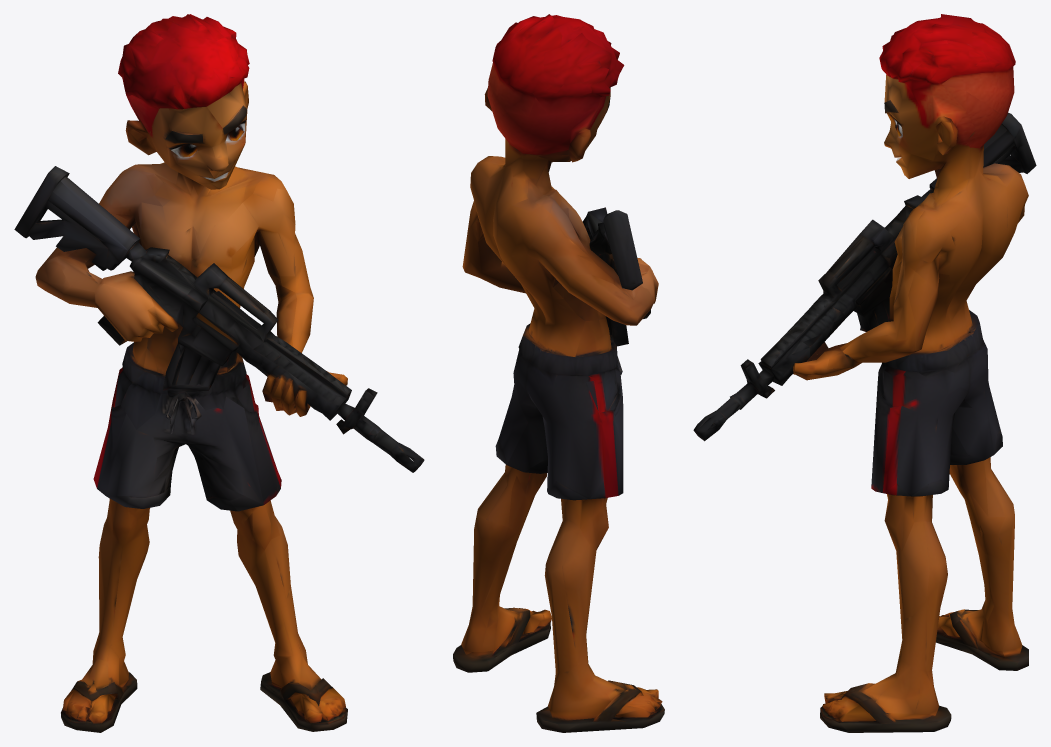
File: demo_gladiator_01.glb
The picture shows the model from 3 angles, left to right: view 1: azimuth 30°, elevation 25°; view 2: azimuth 150°, elevation 25°; view 3: azimuth 270°, elevation 25°; orthographic projection. The views are drawn at different scales.
Visible parts, largest first — view 1: node_0; view 2: node_0; view 3: node_0.
Boxes of the visible parts, x1,y1,x2,y2 form: node_0: (14,14,424,732); node_0: (453,14,664,732); node_0: (693,14,1036,732).
Bounding box in the file's own units: 0.4072 × 1.09 × 0.5132.
1 material, 1 textured.
